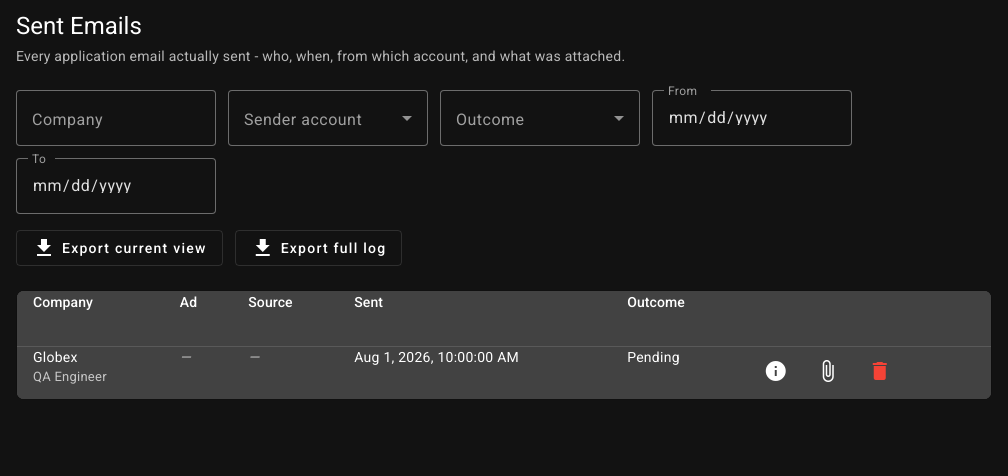
Test: SentEmailsComponent › shows "No attachments" in the attachments dropdown when there are none
Click the button named "Show attachments".
click(828, 371)  # box [804,347,852,395]
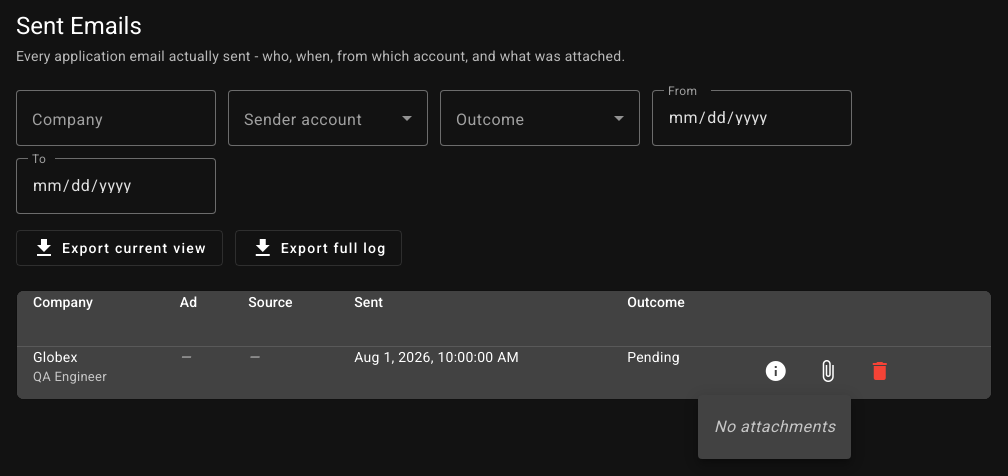
Expected: the text with class "sent-emails__menu-empty" reads "No attachments", [714,417,836,436]
